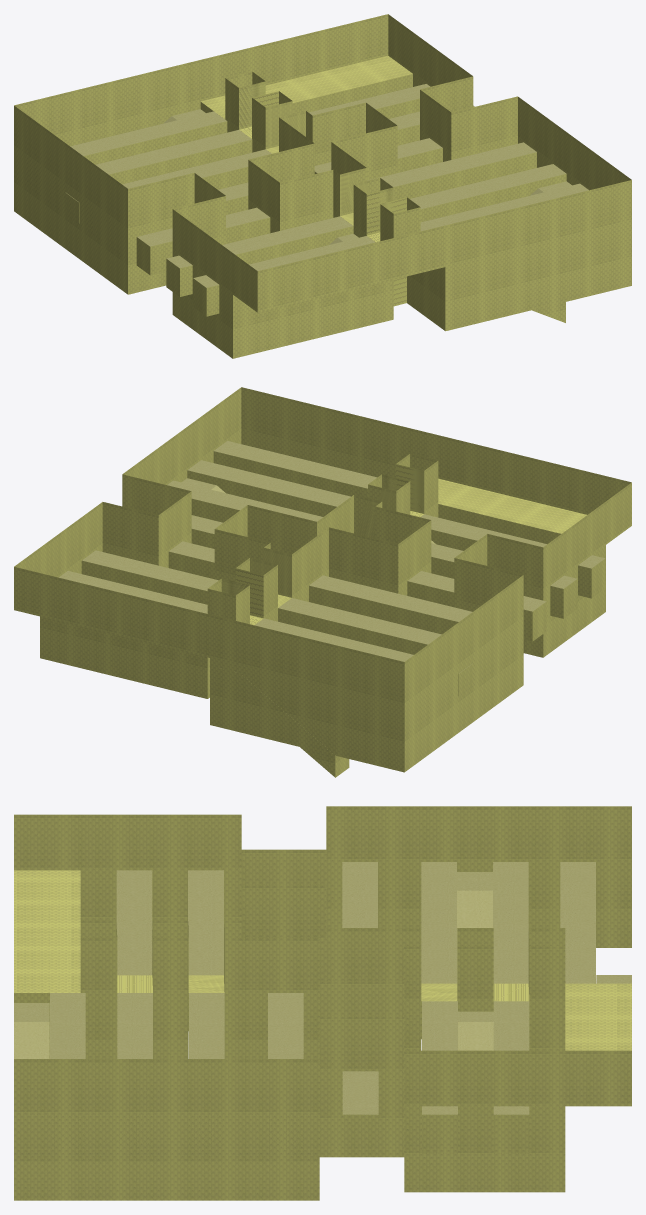
File: SM_Backrooms_01.fbx
3 views of the same model, one above another, from view 1: azimuth 30°, elevation 25°; view 2: azimuth 150°, elevation 25°; view 3: azimuth 270°, elevation 25° (orthographic). The views are drawn at different scales.
Visible parts, largest first — view 1: SM_Backrooms_01; view 2: SM_Backrooms_01; view 3: SM_Backrooms_01.
Part boxes in pixels (x1,y1,x2,y2): SM_Backrooms_01: [14, 14, 631, 358]; SM_Backrooms_01: [14, 387, 631, 777]; SM_Backrooms_01: [14, 806, 631, 1200].
Size of the model in its own units: 5343 by 1674 by 5511.
